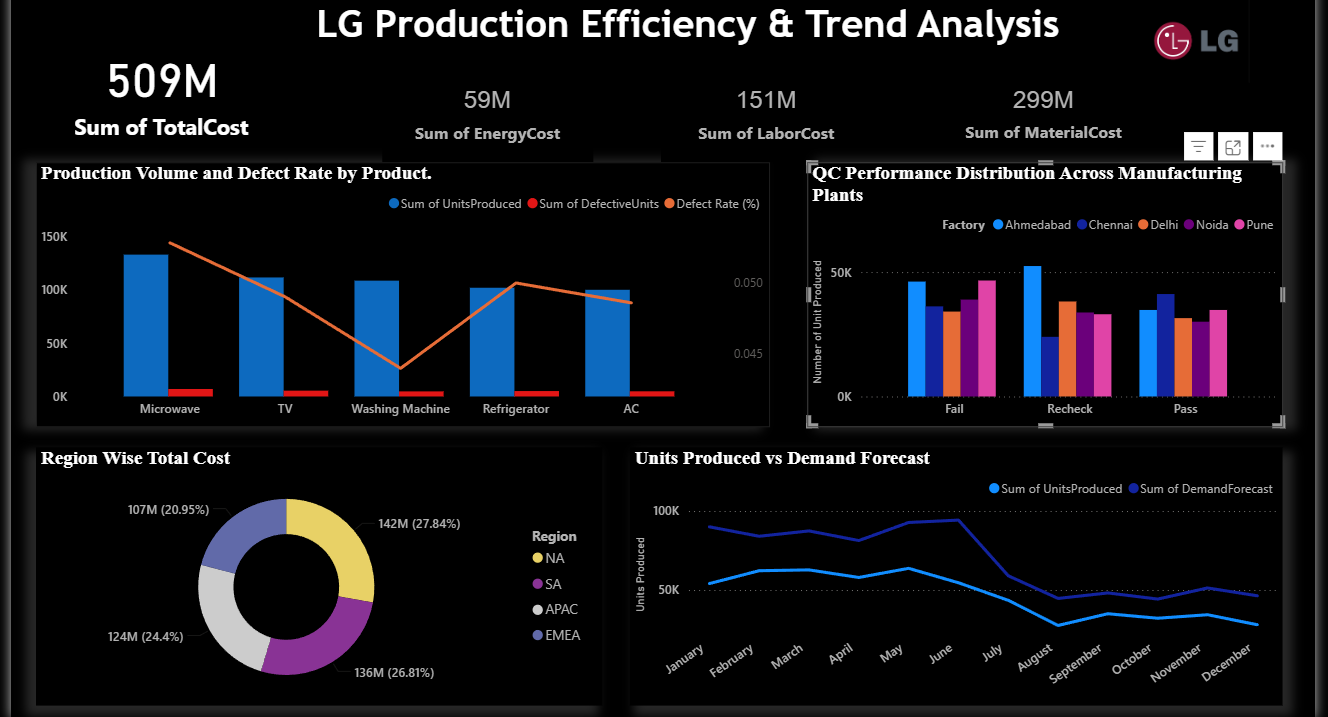

This screenshot's page, from the dashboard's own definition file:
{"tool":"powerbi","page":{"name":"Page 1","canvas":[1280,720],"ordinal":0},"visuals":[{"type":"barChart","title":"Units Produced Vs Defective Units ","fields":{"Category":["lg_production_data.Product"],"Y":["Sum(lg_production_data.UnitsProduced)","Sum(lg_production_data.DefectiveUnits)"]},"box":[24.7,186.6,720.4,247],"z":0},{"type":"pieChart","title":"Region Wise Total Cost ","fields":{"Category":["lg_production_data.Region"],"Y":["Sum(lg_production_data.TotalCost)"]},"box":[24.7,452.8,555.7,253.9],"z":1000},{"type":"stackedAreaChart","title":" Units Produced vs  Demand Forecast ","fields":{"Category":["lg_production_data.DeliveryScheduled.Variation.Date Hierarchy.Month","lg_production_data.DeliveryScheduled.Variation.Date Hierarchy.Day"],"Y":["Sum(lg_production_data.UnitsProduced)","Sum(lg_production_data.DemandForecast)"]},"box":[607.9,452.8,640.8,253.9],"z":2000},{"type":"card","fields":{"Values":["Sum(lg_production_data.TotalCost)"]},"box":[24.5,51.5,235.6,121.5],"z":3000},{"type":"textbox","box":[272.4,9.8,773,72.4],"z":5000},{"type":"card","fields":{"Values":["Sum(lg_production_data.EnergyCost)"]},"box":[272,95,160,79],"z":6000},{"type":"card","fields":{"Values":["Sum(lg_production_data.LaborCost)"]},"box":[441.6,92.1,155.5,83.3],"z":7000},{"type":"card","fields":{"Values":["Sum(lg_production_data.MaterialCost)"]},"box":[608,94,168,79],"z":8000},{"type":"ribbonChart","title":"QC Performance Distribution Across Manufacturing Plants","fields":{"Series":["lg_production_data.Factory"],"Category":["lg_production_data.QCStatus"],"Y":["Sum(lg_production_data.UnitsProduced)"]},"box":[782.2,107,466.6,326.6],"z":9000},{"type":"image","box":[1077.2,9.6,171.5,85.1],"z":10000}]}

Visuals, with their boxes on the page's 1280x720 design canvas (x1, y1, x2, y2). These are canvas units, not pixel positions in the 1328x717 screenshot, which may show the page scaled, cropped or inside an application window:
"Units Produced Vs Defective Units " barChart: bbox(25, 187, 745, 434)
"Region Wise Total Cost " pieChart: bbox(25, 453, 580, 707)
" Units Produced vs  Demand Forecast " stackedAreaChart: bbox(608, 453, 1249, 707)
card - Sum(lg_production_data.TotalCost): bbox(24, 52, 260, 173)
textbox: bbox(272, 10, 1045, 82)
card - Sum(lg_production_data.EnergyCost): bbox(272, 95, 432, 174)
card - Sum(lg_production_data.LaborCost): bbox(442, 92, 597, 175)
card - Sum(lg_production_data.MaterialCost): bbox(608, 94, 776, 173)
"QC Performance Distribution Across Manufacturing Plants" ribbonChart: bbox(782, 107, 1249, 434)
image: bbox(1077, 10, 1249, 95)
